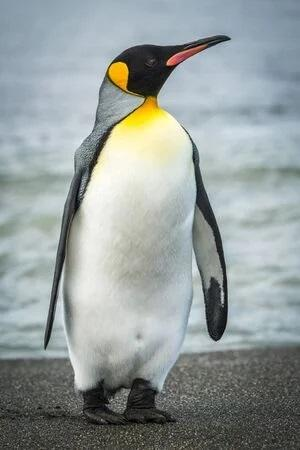king: (20, 24, 257, 422)
